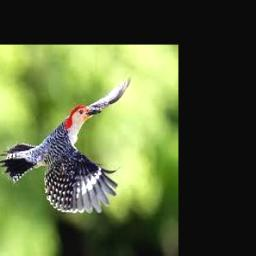Woodpecker: (0, 75, 131, 213)
